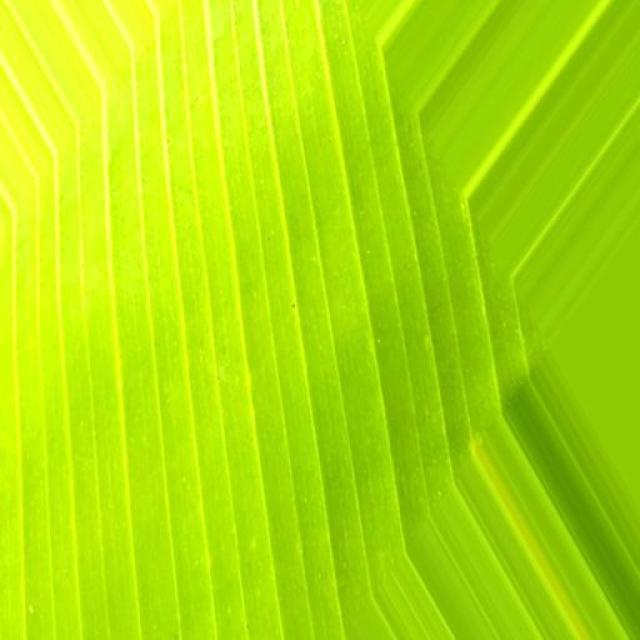Black_leaf_spot: (0, 0, 530, 578)
